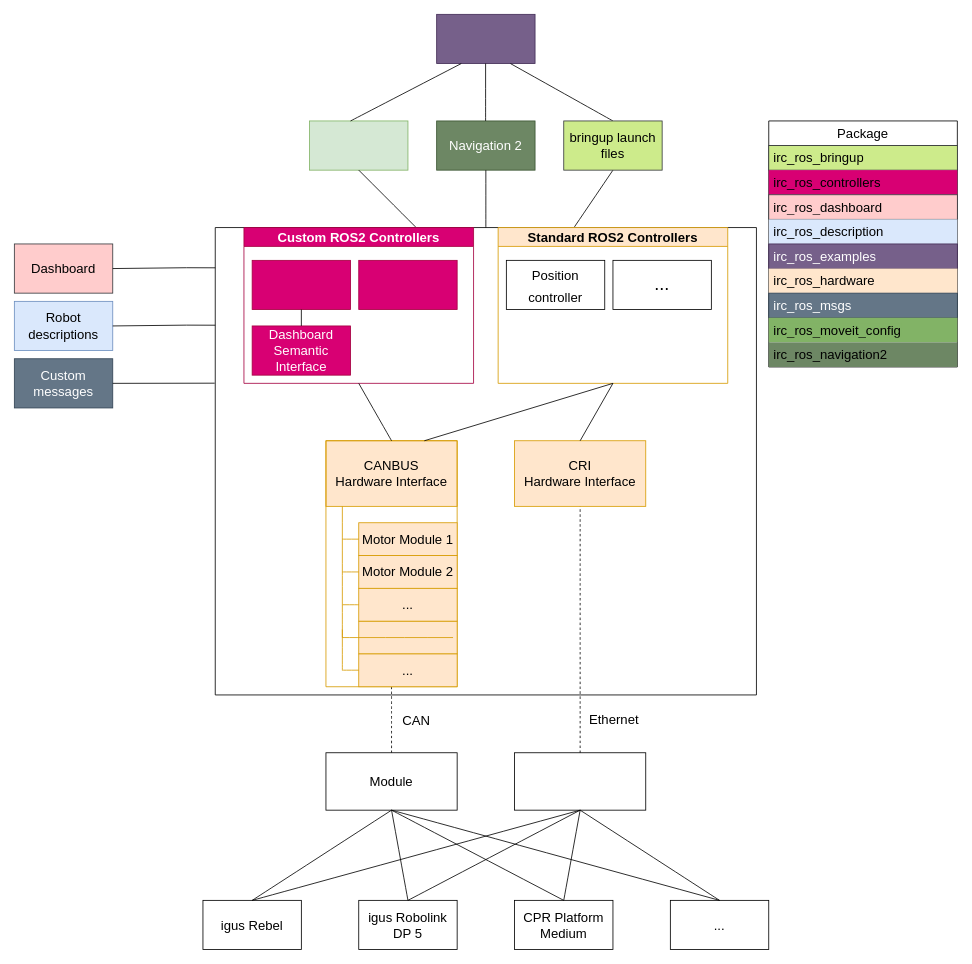
The diagram is 972 pixels wide and 964 high, and some of its shapes have lost their labels. The centre of each missing label's shape, as x and y in pixels:
"Dashboard controller" belongs at (x=301, y=285).
"Digital IO Module 1" belongs at (x=407, y=637).
"DIO controller" belongs at (x=407, y=285).
"Example Applications" belongs at (x=485, y=39).
"MoveIt" belongs at (x=358, y=145).
"TinyCtrl host" belongs at (x=580, y=781).
